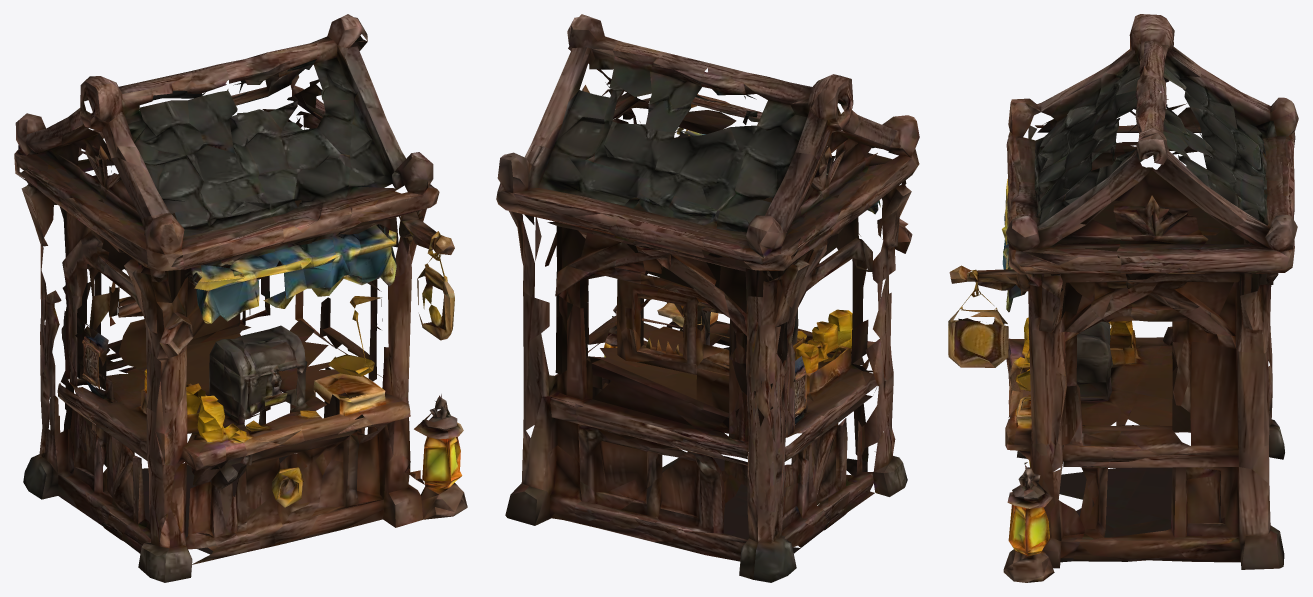
File: tripo-banco154.glb
3 renders of one model, left to right at view 1: azimuth 30°, elevation 25°; view 2: azimuth 150°, elevation 25°; view 3: azimuth 270°, elevation 25°, orthographic. The views are drawn at different scales.
Parts seen in each view (by area): view 1: tripo_node_bb26fe1d-6eeb-4ca3-a5bf-625185a67269; view 2: tripo_node_bb26fe1d-6eeb-4ca3-a5bf-625185a67269; view 3: tripo_node_bb26fe1d-6eeb-4ca3-a5bf-625185a67269.
Part boxes in pixels (bbox=[...]): tripo_node_bb26fe1d-6eeb-4ca3-a5bf-625185a67269: bbox=[14, 14, 467, 582]; tripo_node_bb26fe1d-6eeb-4ca3-a5bf-625185a67269: bbox=[496, 14, 919, 582]; tripo_node_bb26fe1d-6eeb-4ca3-a5bf-625185a67269: bbox=[948, 14, 1298, 582].
Bounding box in the file's own units: 0.7278 × 0.9795 × 0.7173.
Materials: 1 (1 with a texture image).
